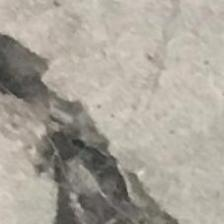Crack: (0, 15, 189, 224)
